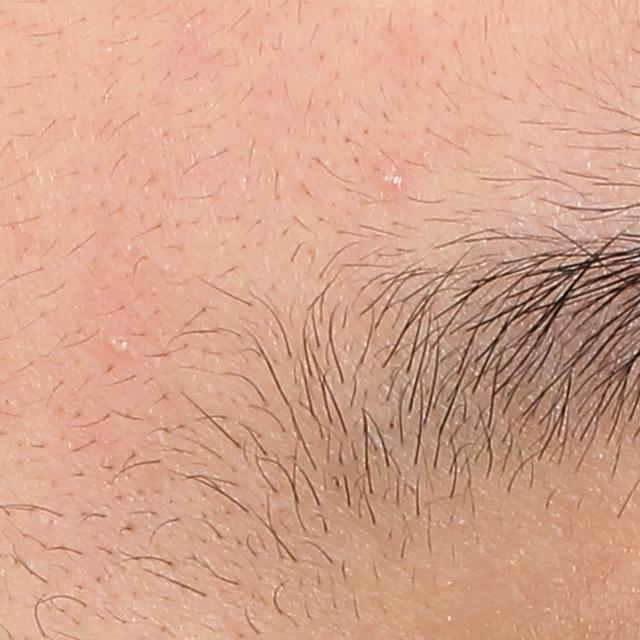pustule: (109, 334, 129, 356)
